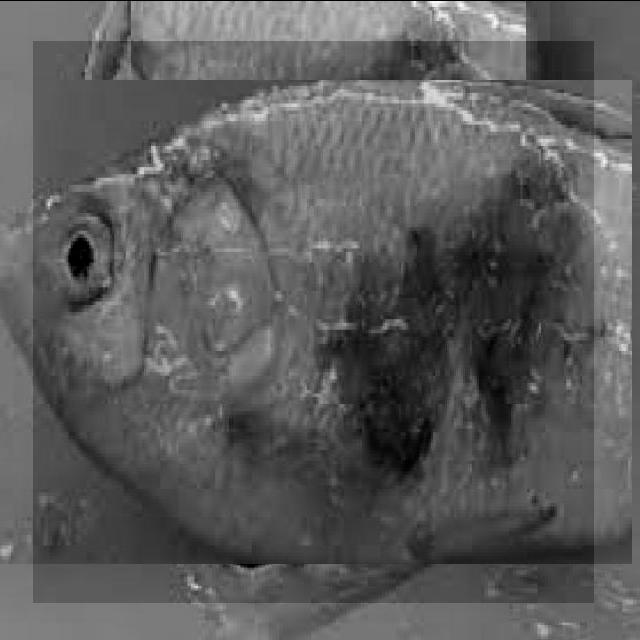EUS Disease: (33, 40, 594, 602), (106, 0, 550, 420)
